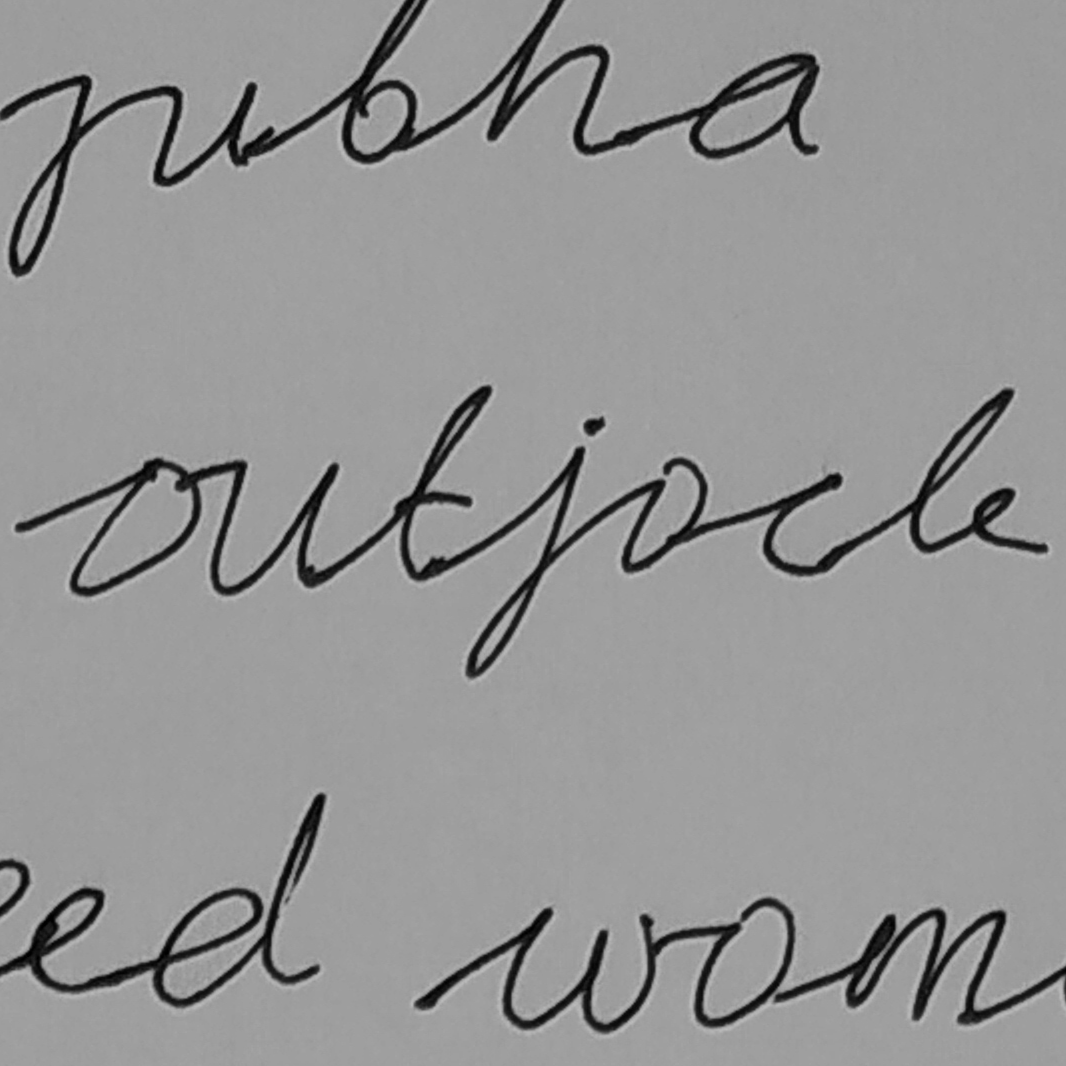c: (758, 468, 854, 580)
j: (459, 411, 609, 683)
k: (899, 383, 1054, 559)
o: (64, 455, 204, 601), (616, 453, 711, 578)
t: (390, 382, 494, 587)
u: (205, 453, 342, 603)
